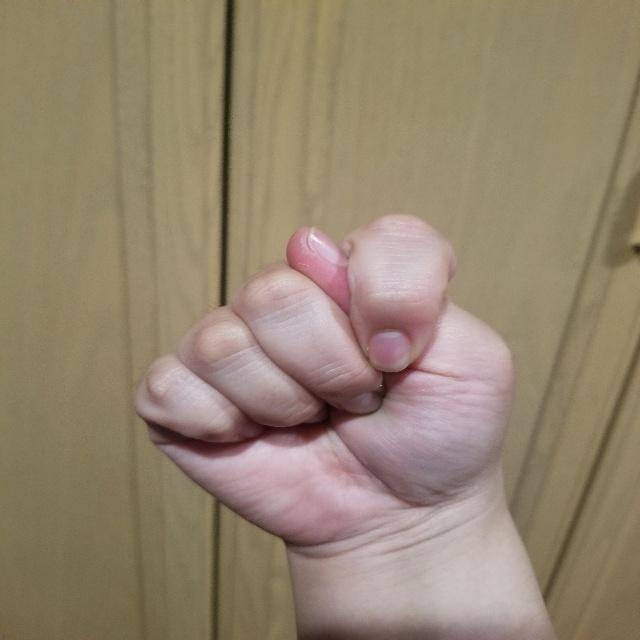T: (120, 208, 517, 557)
